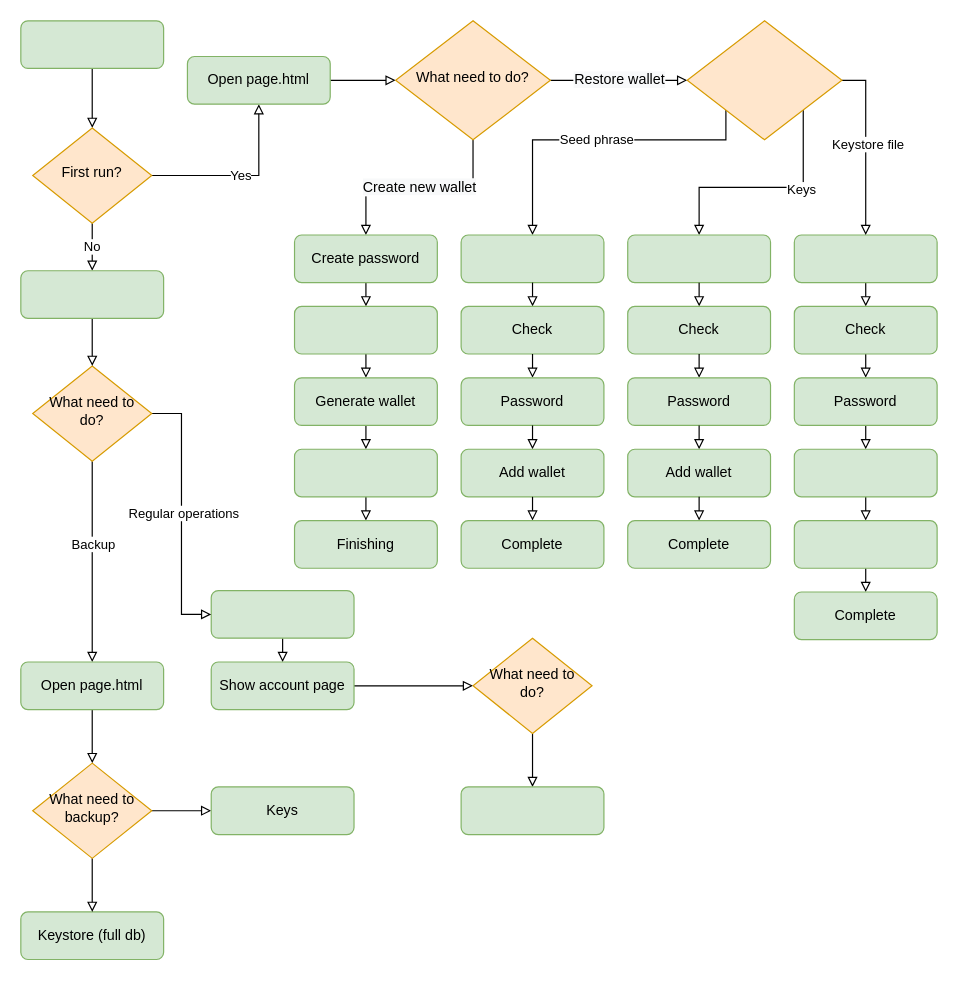
Image size: 958x981. Some labels were removed from this diagram. The shapes that lost their labels are listed below. From the top down, each one's centre as x and y in pixels, then its label:
the point at 92,44: Open the wallet
the point at 764,80: Which way do you want to use?
the point at 532,258: Paste phrase
the point at 699,258: Paste key pair
the point at 865,258: Upload wallet file
the point at 92,294: Unlock with password
the point at 365,329: Term of service
the point at 365,472: Deploy wallet
the point at 865,472: Add wallets
the point at 865,543: Save wallets
the point at 282,613: Open popup.html
the point at 532,810: Send new transaction
